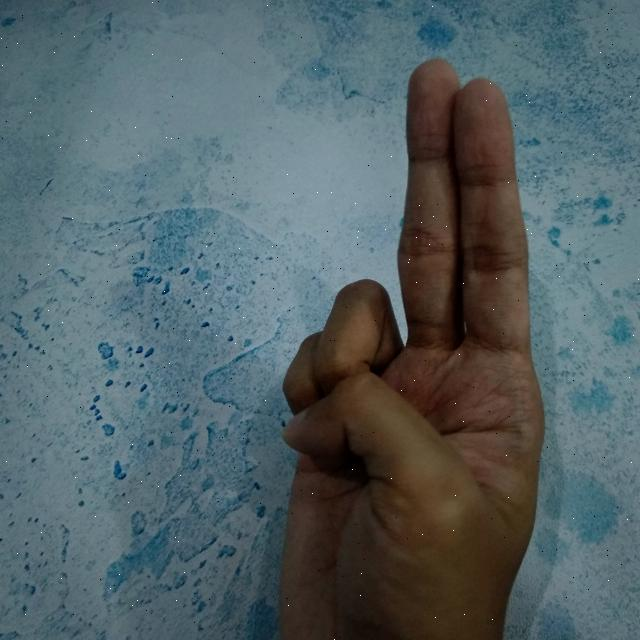U: (277, 47, 548, 640)
